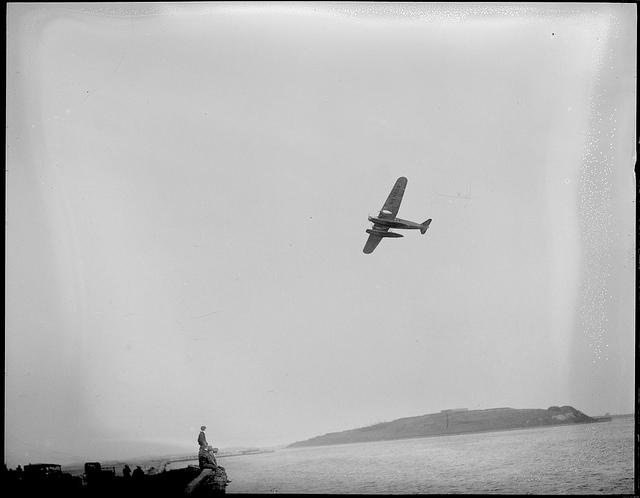airplane: (359, 175, 435, 261)
